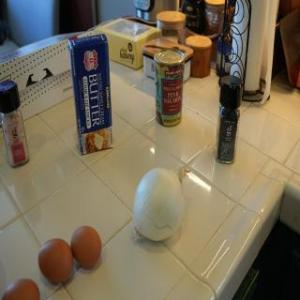egg: (32, 230, 80, 292), (66, 220, 106, 270), (3, 278, 40, 300)
onion: (134, 158, 190, 255)
